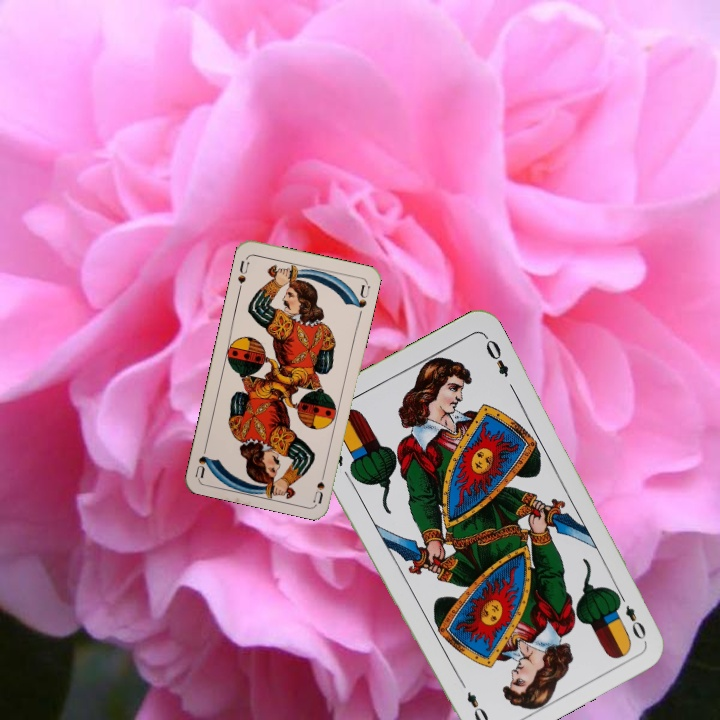EO: (613, 588, 649, 643)
SU: (309, 464, 328, 505), (234, 256, 252, 294)
